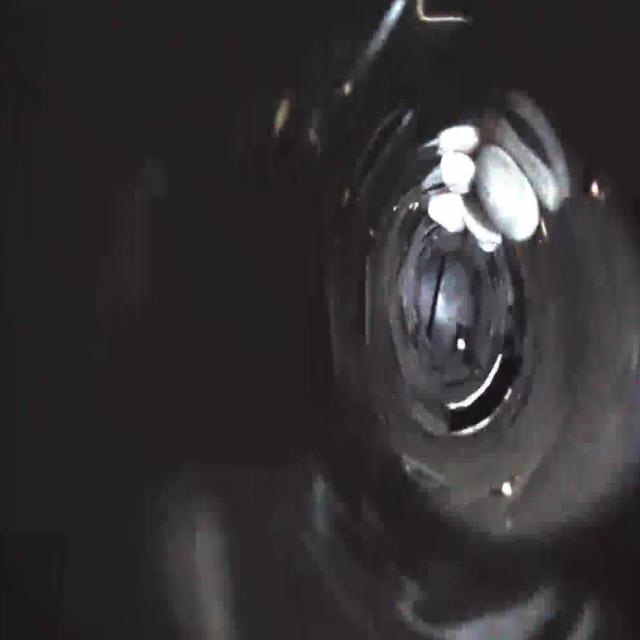hole: (442, 349, 526, 445)
